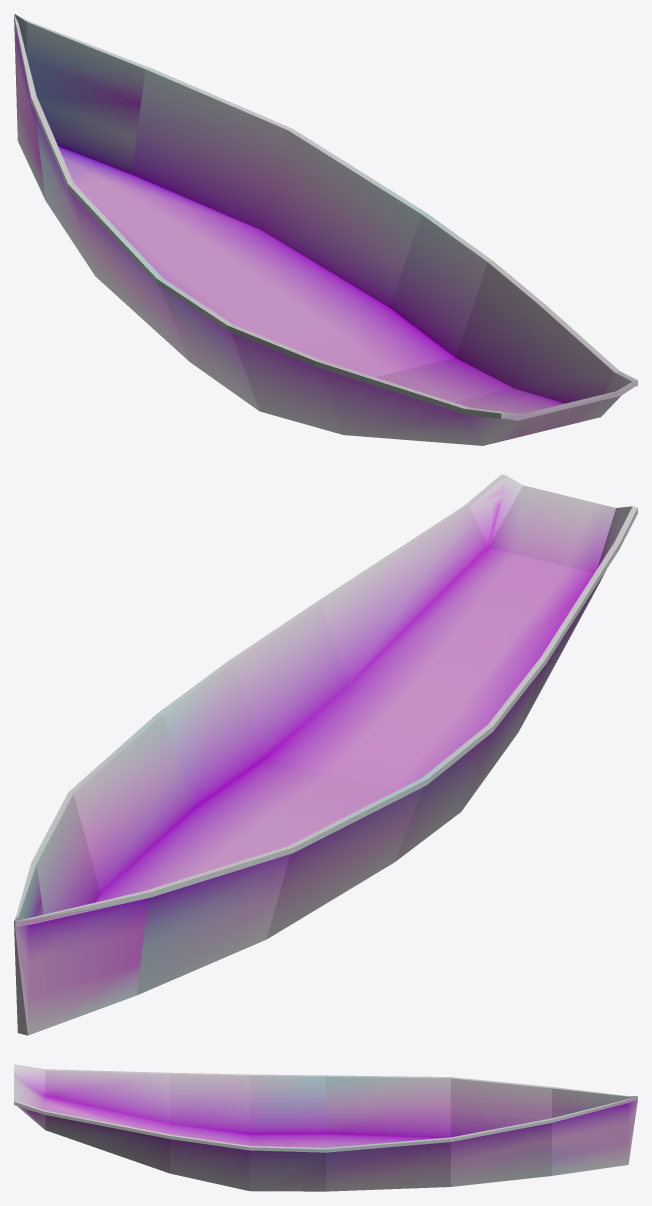
3 renders of one model, top to bottom at view 1: azimuth 30°, elevation 25°; view 2: azimuth 150°, elevation 25°; view 3: azimuth 270°, elevation 25°, orthographic. The views are drawn at different scales.
Visible parts, largest first — view 1: hull_span; view 2: hull_span; view 3: hull_span.
Boxes of the visible parts, x1,y1,x2,y2 form: hull_span: (14, 14, 637, 445); hull_span: (14, 474, 637, 1035); hull_span: (14, 1064, 637, 1191).
Bounding box in the file's own units: 1.4 × 0.7111 × 5.
